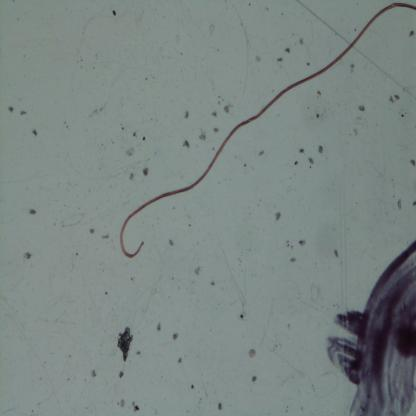Background material: (116, 325, 134, 364), (87, 106, 108, 119), (388, 93, 401, 106), (131, 399, 140, 414), (126, 145, 137, 157), (197, 130, 208, 142), (248, 347, 258, 360), (395, 197, 403, 211), (89, 366, 97, 380), (357, 101, 367, 112), (170, 330, 179, 342), (349, 61, 356, 76), (298, 34, 306, 47), (317, 143, 325, 156), (28, 206, 37, 217), (24, 251, 33, 262), (176, 354, 184, 366), (155, 320, 162, 333), (297, 238, 307, 247), (20, 108, 29, 118), (183, 139, 191, 150), (183, 108, 190, 120), (274, 211, 282, 221), (288, 254, 298, 262), (333, 247, 340, 258), (32, 127, 39, 138), (169, 237, 176, 248), (212, 125, 220, 134), (143, 166, 149, 178), (308, 155, 314, 167), (250, 374, 258, 383), (276, 54, 284, 63), (118, 368, 124, 380), (101, 233, 111, 240), (223, 103, 230, 113), (409, 157, 416, 167), (260, 147, 266, 158), (195, 265, 201, 276), (120, 399, 126, 410), (298, 146, 306, 154), (111, 8, 118, 17), (211, 109, 217, 119), (90, 226, 96, 236), (409, 30, 416, 38), (7, 106, 14, 114), (284, 46, 291, 53), (190, 383, 196, 391), (256, 54, 261, 62), (294, 159, 298, 167)
Glass filter fibre: (215, 241, 247, 308), (317, 368, 340, 400)
Microfibre: (119, 3, 416, 259)
Pen: (328, 240, 416, 415)
